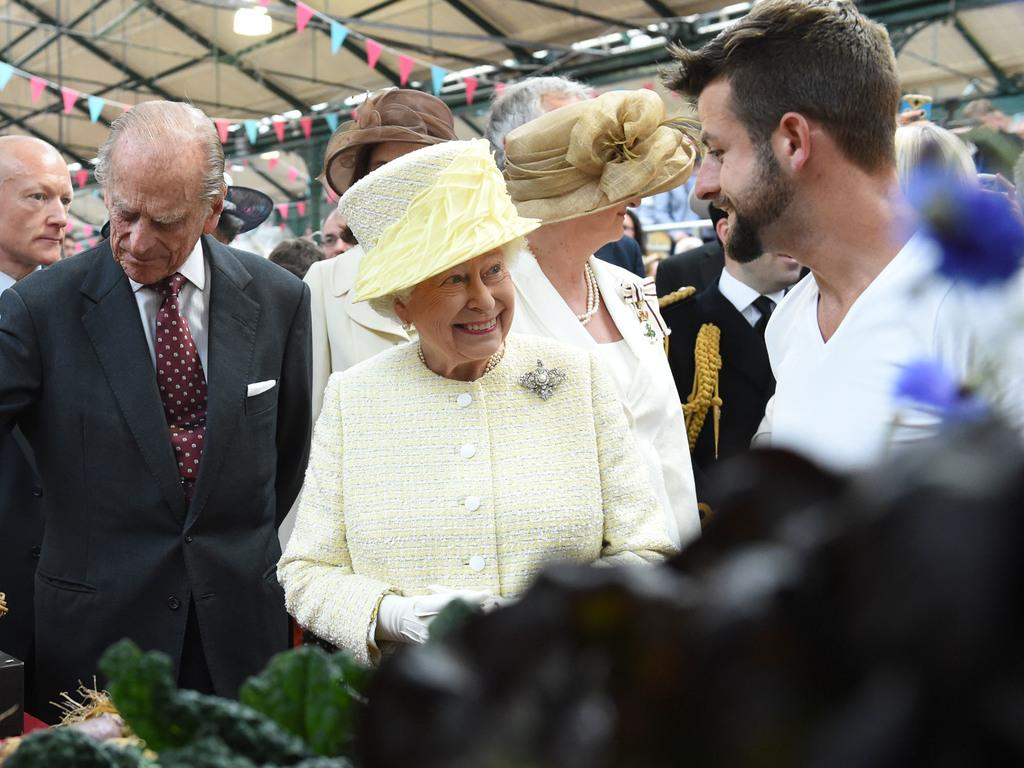Hat: (335, 138, 546, 306), (501, 86, 699, 224), (215, 182, 273, 236), (688, 178, 730, 220)
